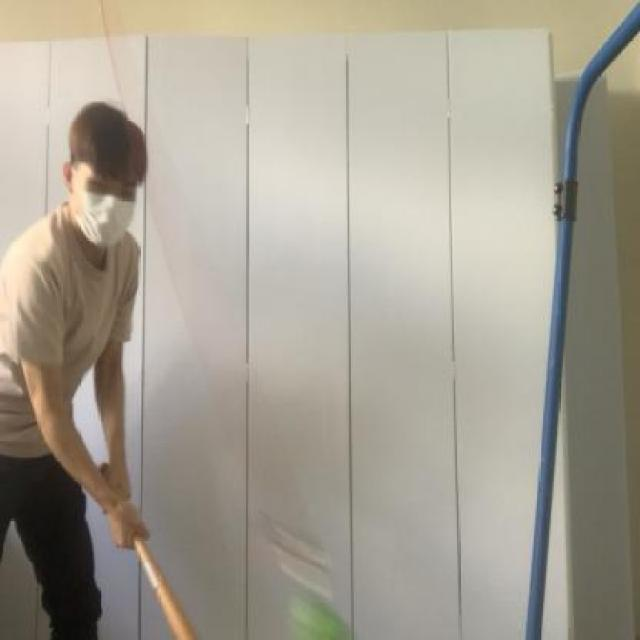baseball: (278, 586, 358, 640)
